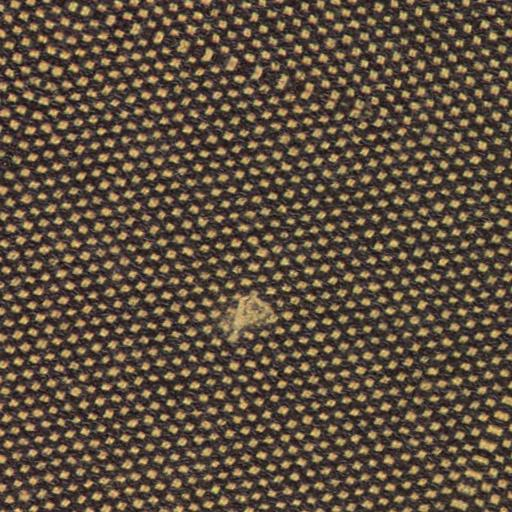knot: (224, 287, 283, 349)
